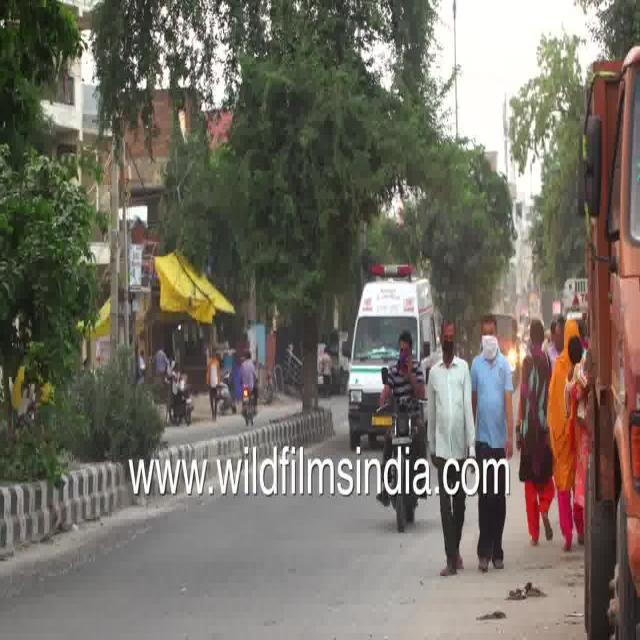ambulance: (348, 258, 440, 440)
